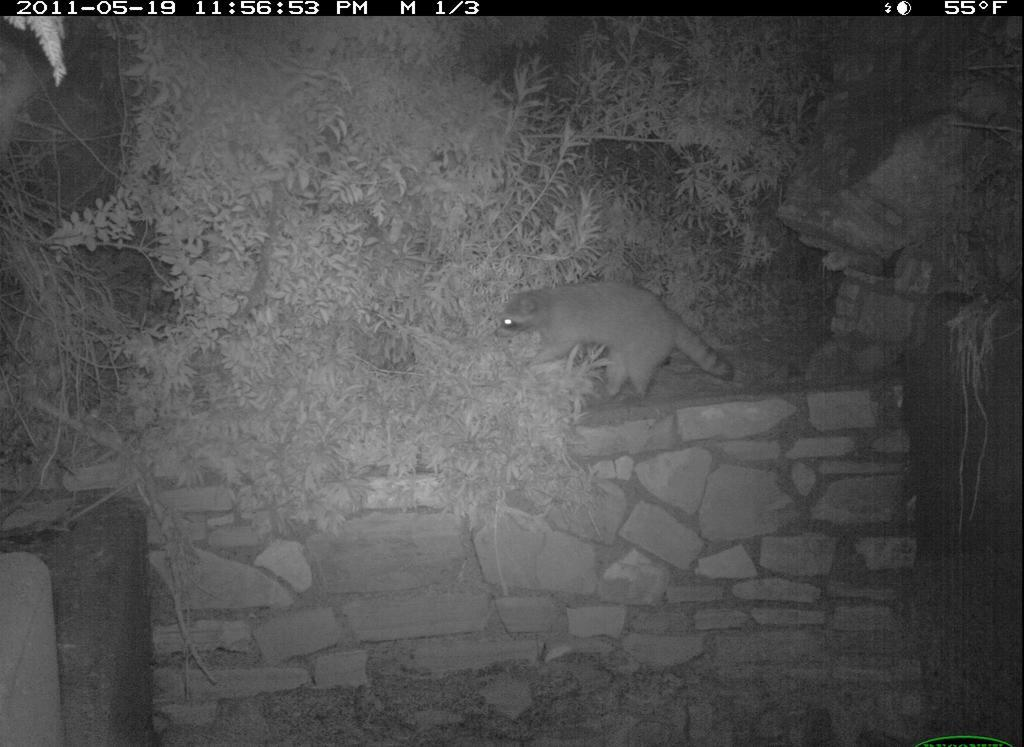raccoon: (489, 276, 740, 414)
